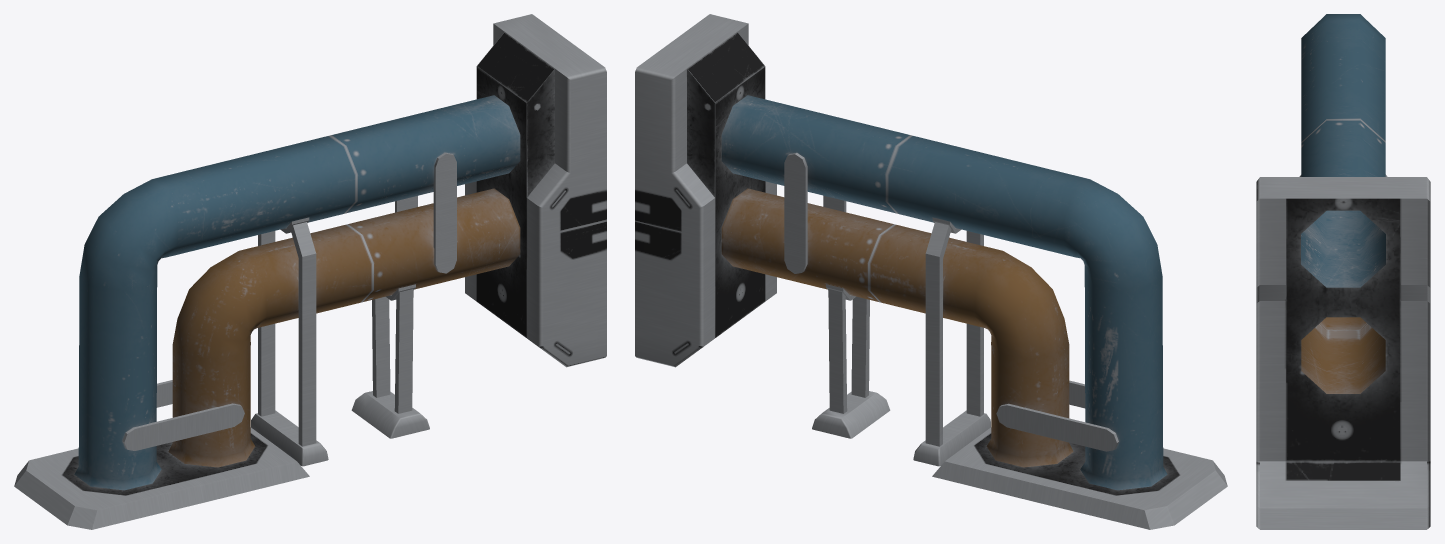
File: pipes.glb
3 renders of one model, left to right at view 1: azimuth 30°, elevation 25°; view 2: azimuth 150°, elevation 25°; view 3: azimuth 270°, elevation 25°, orthographic. The views are drawn at different scales.
Parts seen in each view (by area): view 1: pipes:pipes_pipes, pipes:support_support, pipes:hooks_hooks; view 2: pipes:pipes_pipes, pipes:support_support, pipes:hooks_hooks; view 3: pipes:pipes_pipes.
Part boxes in pixels (x1,y1,x2,y2): pipes:pipes_pipes: (14,14,606,529); pipes:support_support: (251,217,429,466); pipes:hooks_hooks: (122,152,456,450); pipes:pipes_pipes: (635,14,1227,529); pipes:support_support: (812,217,990,466); pipes:hooks_hooks: (784,152,1118,451); pipes:pipes_pipes: (1256,14,1430,529).
Size of the model in its own units: 0.156 by 0.095 by 0.0391.
1 material, 1 textured.
